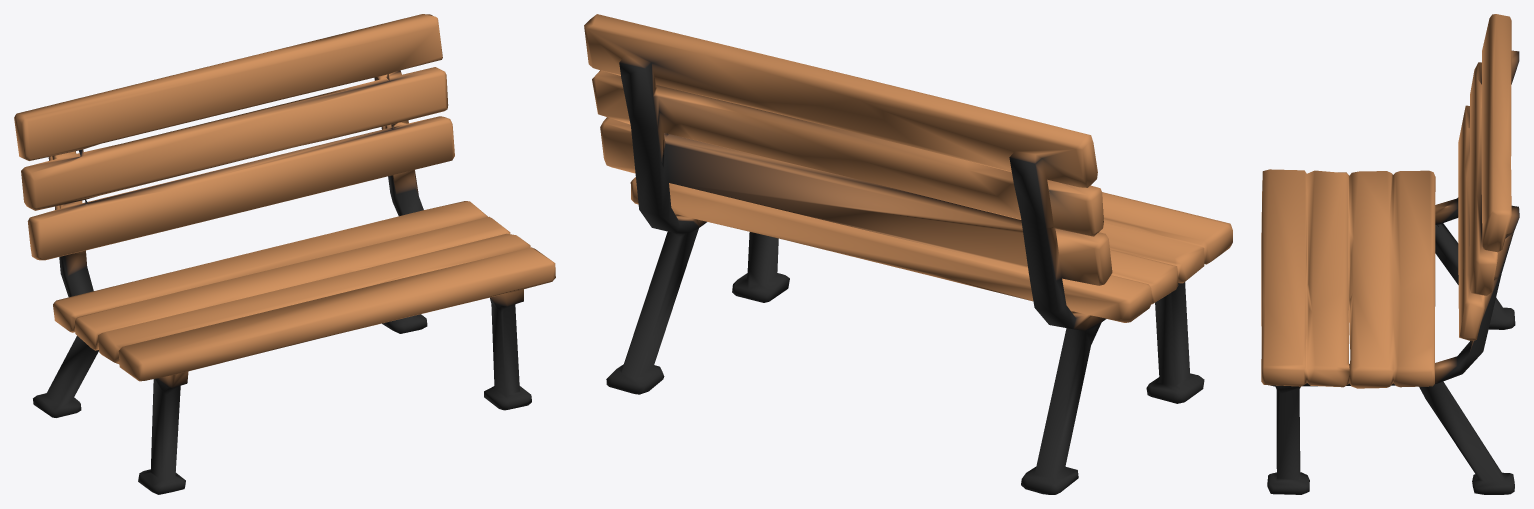
File: gen3d-park-bench-lod1.glb
3 views of the same model, side by side, from view 1: azimuth 30°, elevation 25°; view 2: azimuth 150°, elevation 25°; view 3: azimuth 270°, elevation 25° (orthographic). The views are drawn at different scales.
Parts seen in each view (by area): view 1: part_0; view 2: part_0; view 3: part_0.
Boxes of the visible parts, x1,y1,x2,y2 form: part_0: [14, 14, 555, 494]; part_0: [584, 14, 1232, 494]; part_0: [1261, 14, 1519, 494].
Bounding box in the file's own units: 1.54 × 1.06 × 0.842.
